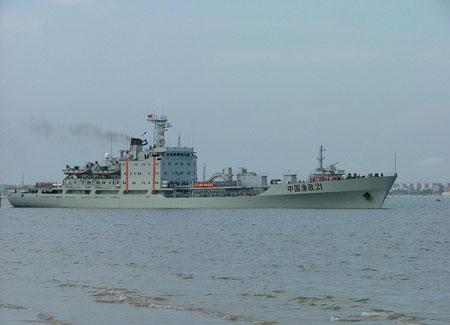warship: (9, 104, 405, 213)
